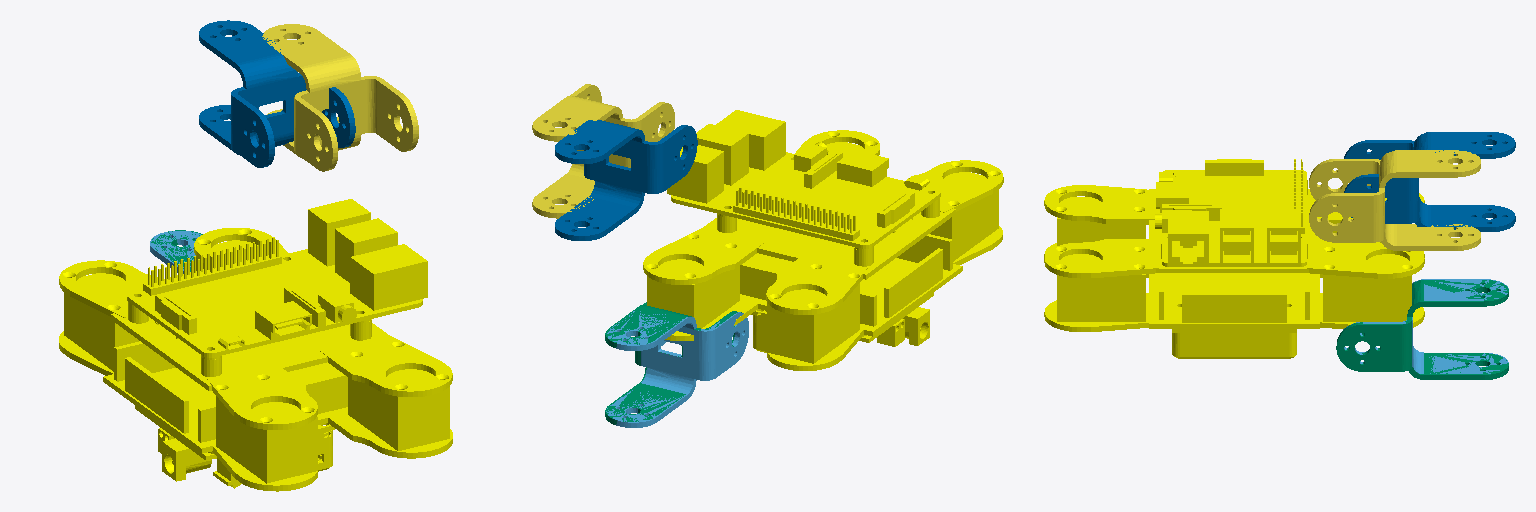
robot.urdf — custom_robot:
<?xml version="1.0" ?>
<robot name="custom_robot">
    <!-- Base Link -->
    <link name="body">
        <origin rpy ='0 0 0' xyz= '0 0 0' />
        <visual>
            <geometry>
                <mesh filename="package://adsmt_description/simulation/designs/ads-mt-assembled-body.stl" scale="0.001 0.001 0.001"/>
            </geometry>
            <material name='yellow'>
                <color rgba='1 1 0 1'/>
            </material>
        </visual>
    </link>

    <!-- Joints and Links -->
    <joint name="joint_1" type="revolute">
        <parent link="body"/>
        <child link="joint_1_link"/>
        <origin xyz="-0.01052 0.00903 0.0" rpy="0 0 0"/>
        <axis xyz="0 0 1"/>
        <limit lower="-3.1415" upper="3.1415" effort="10" velocity="1.0"/>
    </joint>
    <link name="joint_1_link">
        <visual>
            <geometry>
                <mesh filename="package://adsmt_description/simulation/designs/double_u_elong.stl" scale="0.001 0.001 0.001"/>
            </geometry>
        </visual>
    </link>

    <joint name="joint_2" type="revolute">
        <parent link="body"/>
        <child link="joint_2_link"/>
        <origin xyz="-0.01000 0.00896 0.0" rpy="0 0 0"/>
        <axis xyz="0 0 1"/>
        <limit lower="-3.1415" upper="3.1415" effort="10" velocity="1.0"/>
    </joint>
    <link name="joint_2_link">
        <visual>
            <geometry>
                <mesh filename="package://adsmt_description/simulation/designs/double_u_elong.stl" scale="0.001 0.001 0.001"/>
            </geometry>
        </visual>
    </link>

    <joint name="joint_3" type="revolute">
        <parent link="body"/>
        <child link="joint_3_link"/>
        <origin xyz="0.027 -0.00155 0.072" rpy="0 0 0"/>
        <axis xyz="0 0 1"/>
        <limit lower="-3.1415" upper="3.1415" effort="10" velocity="1.0"/>
    </joint>
    <link name="joint_3_link">
        <visual>
            <geometry>
                <mesh filename="package://adsmt_description/simulation/designs/double_u_elong.stl" scale="0.001 0.001 0.001"/>
            </geometry>
        </visual>
    </link>

    <joint name="joint_4" type="revolute">
        <parent link="body"/>
        <child link="joint_4_link"/>
        <origin xyz="0.010 0.01155 0.072" rpy="0 0 0"/>
        <axis xyz="0 0 1"/>
        <limit lower="-3.1415" upper="3.1415" effort="10" velocity="1.0"/>
    </joint>
    <link name="joint_4_link">
        <visual>
            <geometry>
                <mesh filename="package://adsmt_description/simulation/designs/double_u_elong.stl" scale="0.001 0.001 0.001"/>
            </geometry>
        </visual>
    </link>
</robot>

--- Render facts (derived) ---
The picture shows the robot from 3 angles, left to right: view 1: azimuth 30°, elevation 25°; view 2: azimuth 150°, elevation 25°; view 3: azimuth 270°, elevation 25°; orthographic projection.
Model custom_robot with 5 links and 4 joints (4 revolute), rooted at body, posed every joint at zero.
Links seen in each view (by area): view 1: body, joint_3_link, joint_4_link, joint_1_link; view 2: body, joint_4_link, joint_1_link, joint_3_link, joint_2_link; view 3: body, joint_3_link, joint_4_link, joint_2_link, joint_1_link.
Boxes of the visible links, box(x1,y1,x2,y2) form: body: box(59, 199, 452, 491); joint_3_link: box(262, 24, 418, 171); joint_4_link: box(199, 20, 355, 167); joint_1_link: box(150, 231, 200, 273); body: box(643, 110, 1003, 370); joint_4_link: box(555, 120, 697, 240); joint_1_link: box(606, 311, 748, 427); joint_3_link: box(532, 84, 674, 218); joint_2_link: box(605, 302, 741, 424); body: box(1044, 159, 1424, 358); joint_3_link: box(1309, 150, 1480, 250); joint_4_link: box(1344, 132, 1515, 231); joint_2_link: box(1336, 280, 1508, 379); joint_1_link: box(1343, 279, 1508, 373).
Bounding box of the posed robot: 0.12 × 0.1809 × 0.1054 m (x, y, z).
5 mesh visuals loaded from 2 distinct referenced files (2 binary STL).
